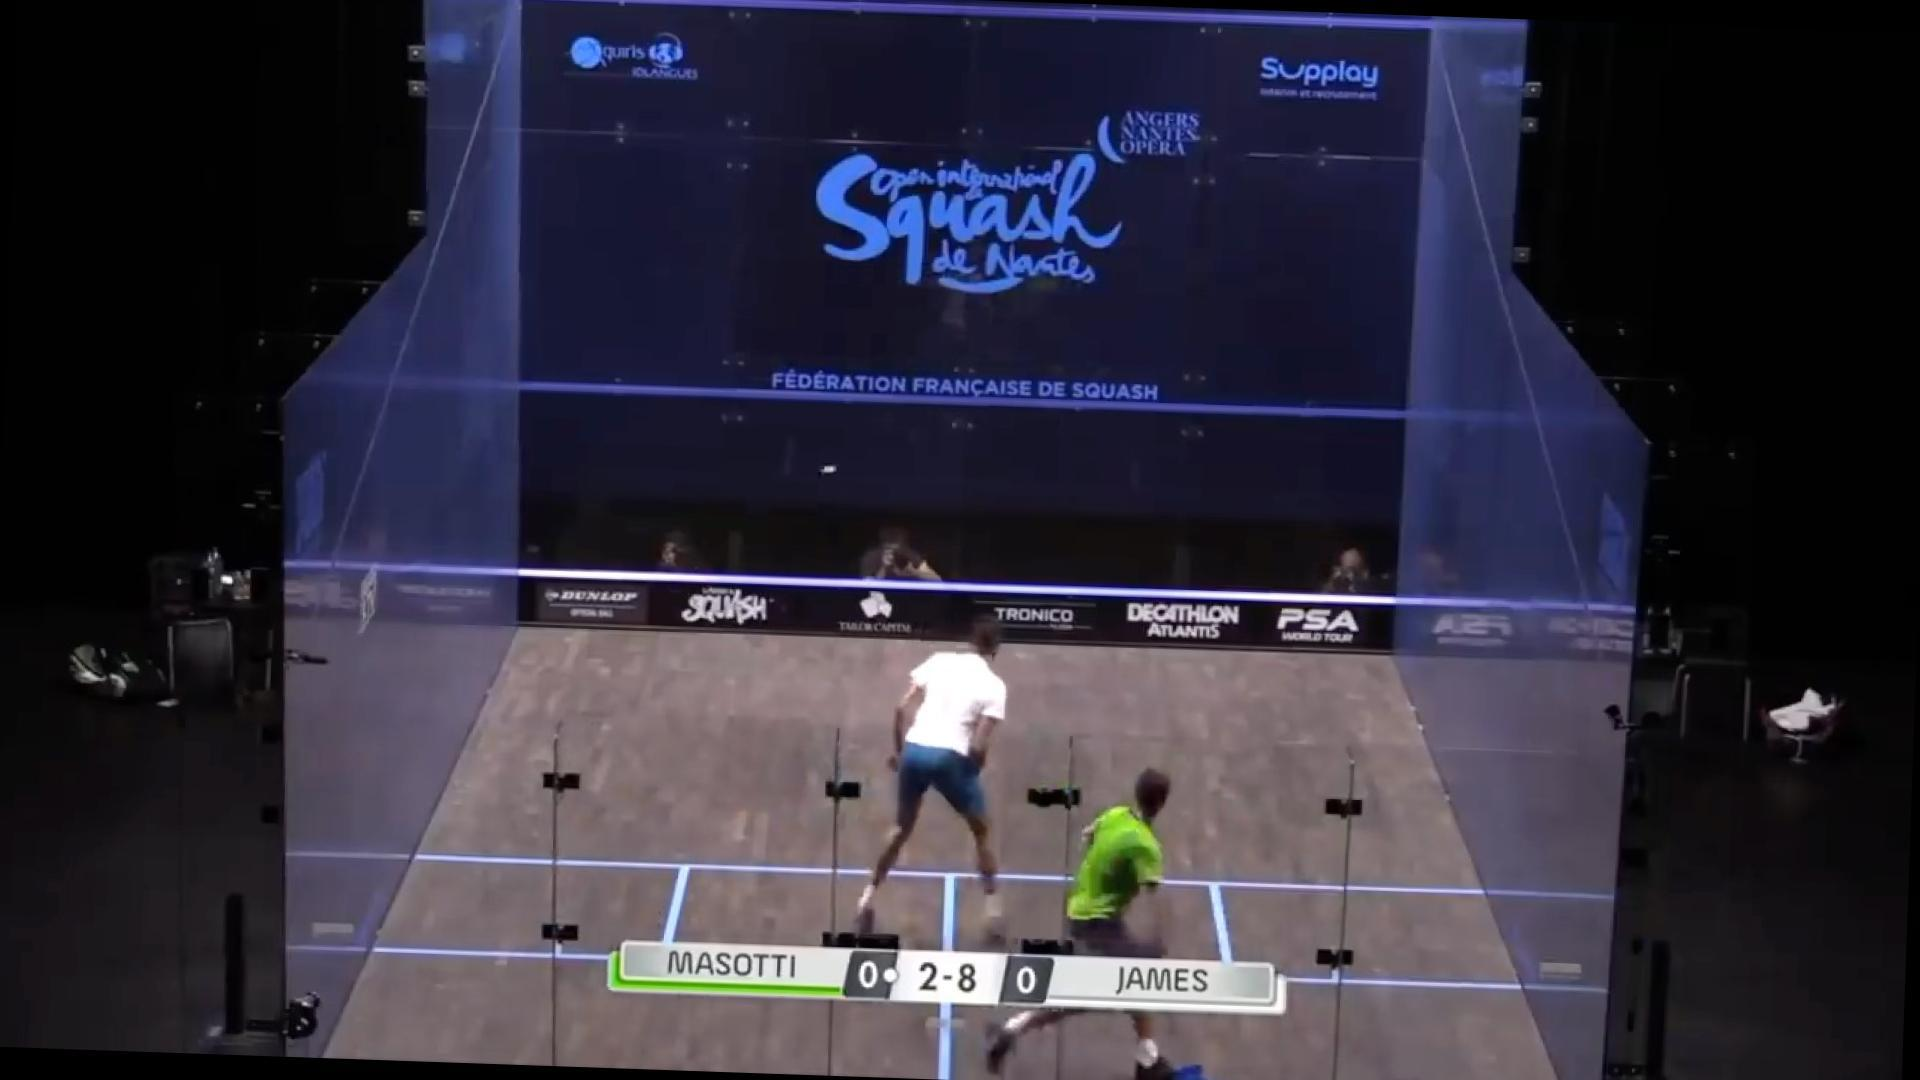Squash-Ball: (812, 450, 856, 496)
